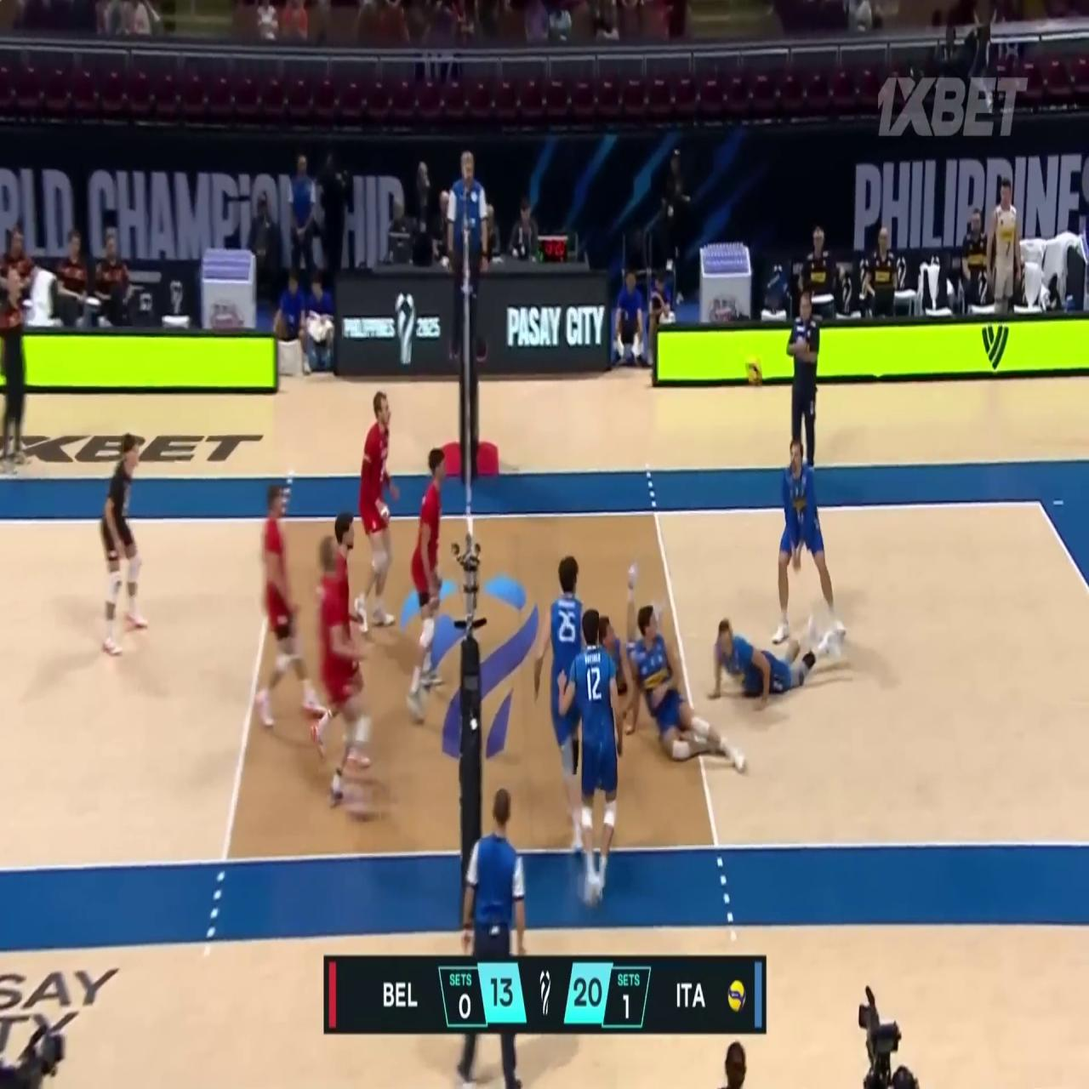ball: (747, 358, 762, 386)
